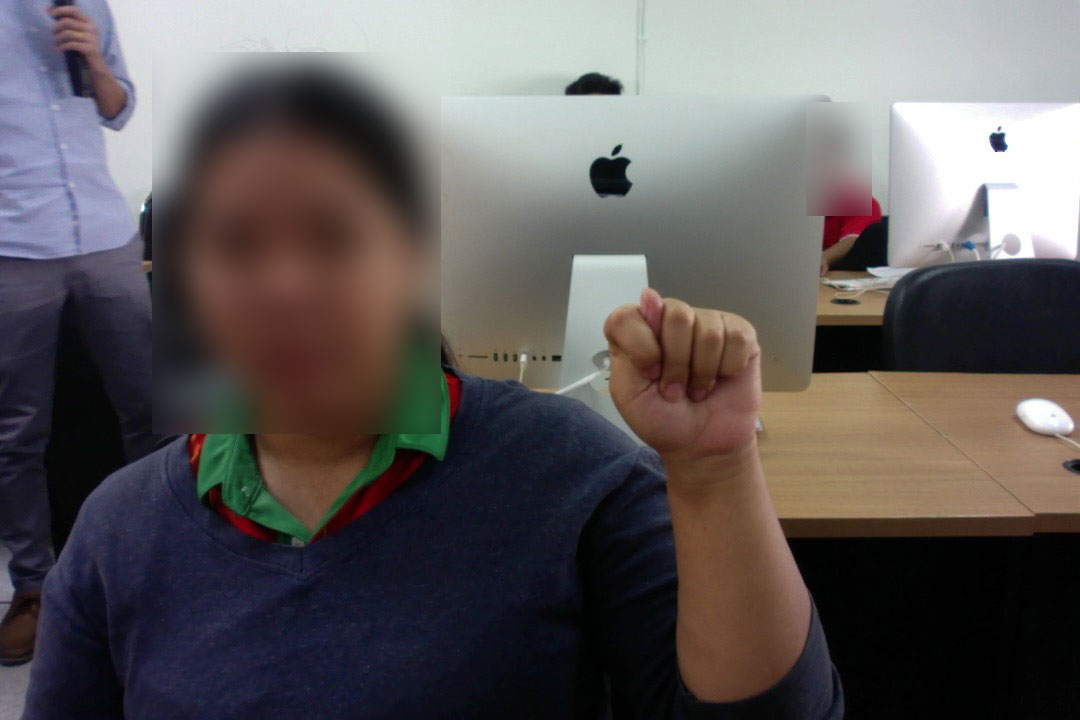tor: (596, 287, 766, 491)
